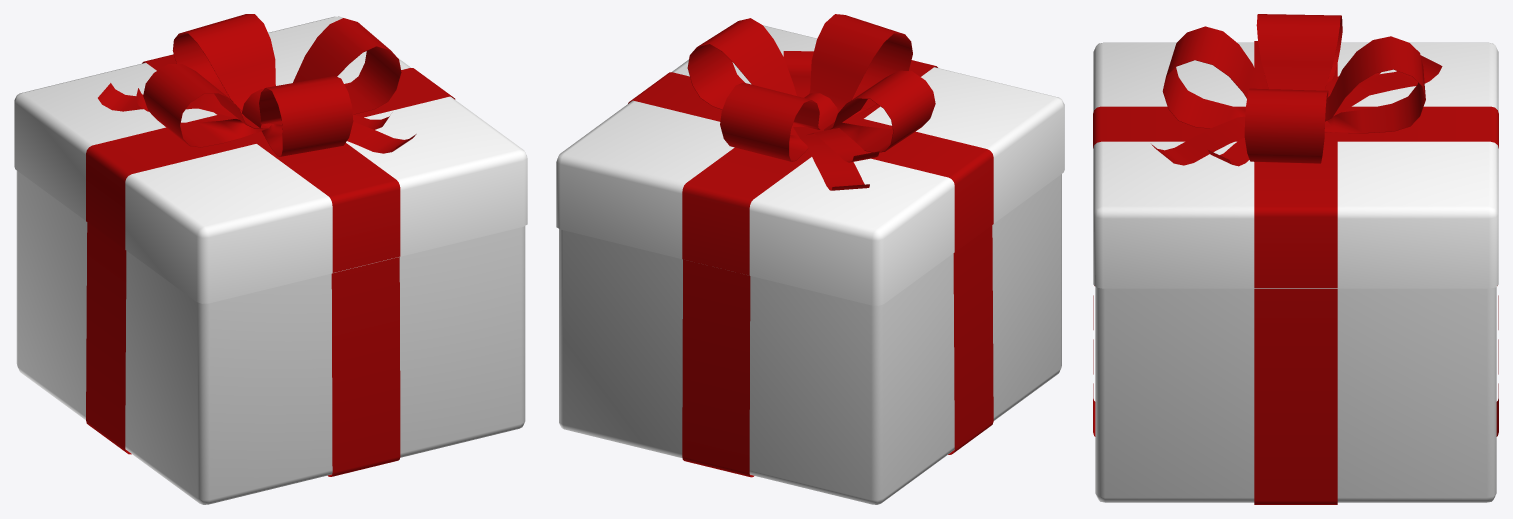
File: ChristmasGiftBox.fbx
3 renders of one model, left to right at view 1: azimuth 30°, elevation 25°; view 2: azimuth 150°, elevation 25°; view 3: azimuth 270°, elevation 25°, orthographic. The views are drawn at different scales.
Parts seen in each view (by area): view 1: BottomBox, TopBox, BowTop, BottomStrings, TopStrings; view 2: BottomBox, TopBox, BowTop, BottomStrings, TopStrings; view 3: BottomBox, TopBox, BowTop, TopStrings, BottomStrings.
Part boxes in pixels (x1,y1,x2,y2): BottomBox: [16, 170, 525, 504]; TopBox: [14, 16, 527, 303]; BowTop: [98, 14, 416, 156]; BottomStrings: [86, 222, 400, 476]; TopStrings: [86, 54, 455, 272]; BottomBox: [559, 174, 1061, 504]; TopBox: [556, 25, 1064, 305]; BowTop: [687, 14, 935, 190]; BottomStrings: [682, 225, 993, 477]; TopStrings: [628, 60, 993, 275]; BottomBox: [1095, 287, 1496, 502]; TopBox: [1093, 42, 1498, 288]; BowTop: [1151, 14, 1442, 166]; TopStrings: [1093, 41, 1498, 287]; BottomStrings: [1093, 285, 1498, 504].
Bounding box in the file's own units: 102 × 104 × 102.
